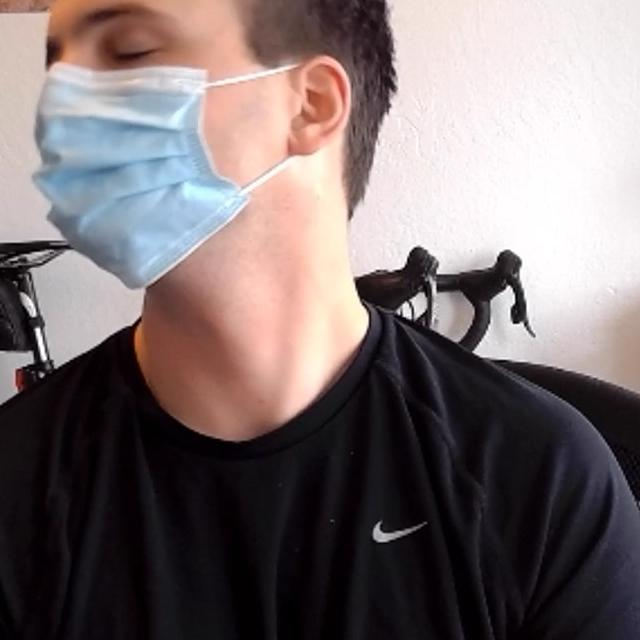Mask: (40, 55, 354, 282)
NO-Safety Vest: (0, 320, 543, 640)
Person: (0, 0, 640, 640)
